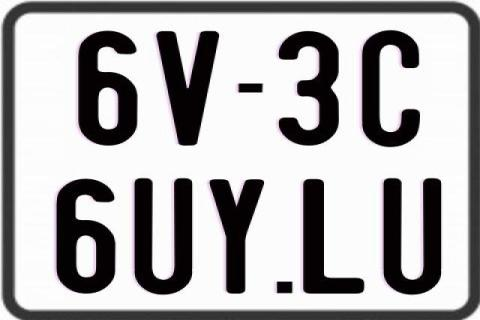0: (277, 31, 341, 151), (75, 28, 138, 145), (56, 178, 116, 298)
C: (360, 28, 421, 146)
L: (303, 178, 365, 296)
U: (380, 176, 444, 292), (134, 177, 195, 297)
V: (155, 31, 222, 146)
Y: (207, 178, 264, 296)
